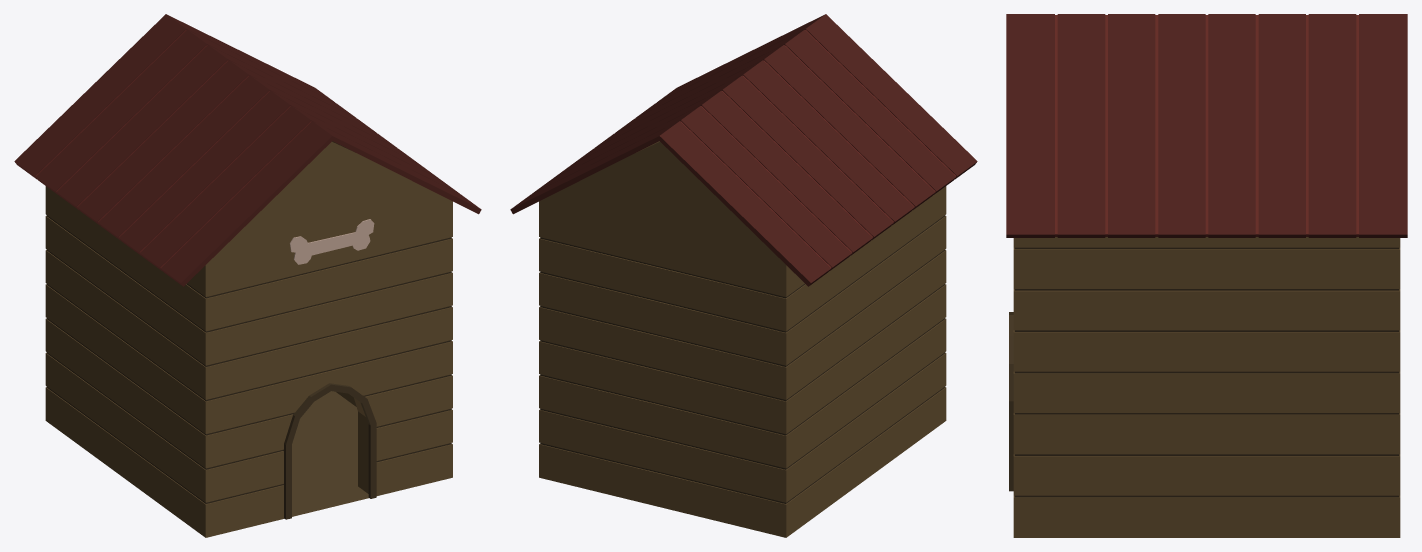
Rendered from DogHouse_1.fbx.
The picture shows the model from 3 angles, left to right: view 1: azimuth 30°, elevation 25°; view 2: azimuth 150°, elevation 25°; view 3: azimuth 270°, elevation 25°; orthographic projection. The views are drawn at different scales.
Parts seen in each view (by area): view 1: DogHouse_1; view 2: DogHouse_1; view 3: DogHouse_1.
Boxes of the visible parts, bbox=[...] form: DogHouse_1: bbox=[14, 14, 481, 537]; DogHouse_1: bbox=[510, 14, 977, 537]; DogHouse_1: bbox=[1006, 14, 1407, 537].
Bounding box in the file's own units: 173 × 205 × 166.
